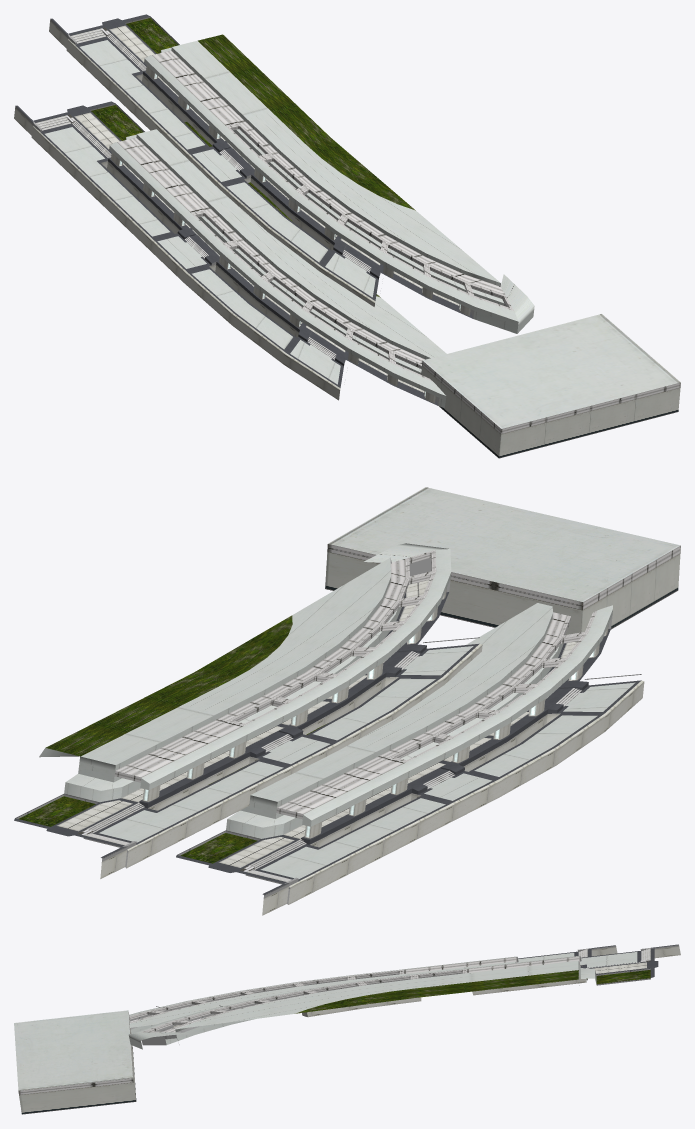
File: STA20_backbuilding.FBX
The picture shows the model from 3 angles, top to bottom: view 1: azimuth 30°, elevation 25°; view 2: azimuth 150°, elevation 25°; view 3: azimuth 270°, elevation 25°; orthographic projection. The views are drawn at different scales.
Visible parts, largest first — view 1: STA20_backbuilding; view 2: STA20_backbuilding; view 3: STA20_backbuilding.
Part boxes in pixels (box(x1,y1,x2,y2)): STA20_backbuilding: box(14, 14, 680, 458); STA20_backbuilding: box(14, 487, 680, 915); STA20_backbuilding: box(14, 944, 680, 1114).
Bounding box in the file's own units: 77.34 × 35.66 × 213.
